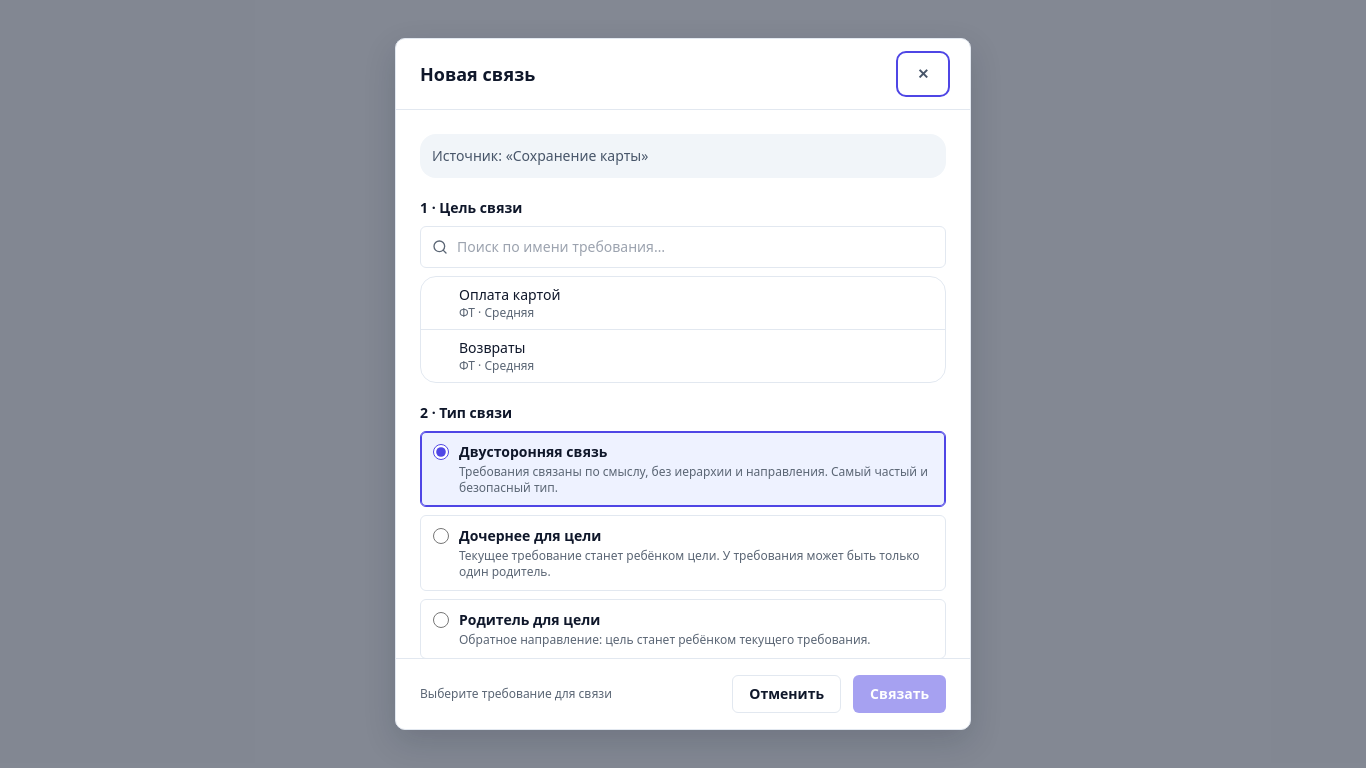
Test: LinkModal (T-606, FR-8) › shows the readable relationship sentence with highlighted names after picking a target
Type "Оплата" into the search field with test id "link-search". click: (683, 247)
box: 420,226 -> 946,268
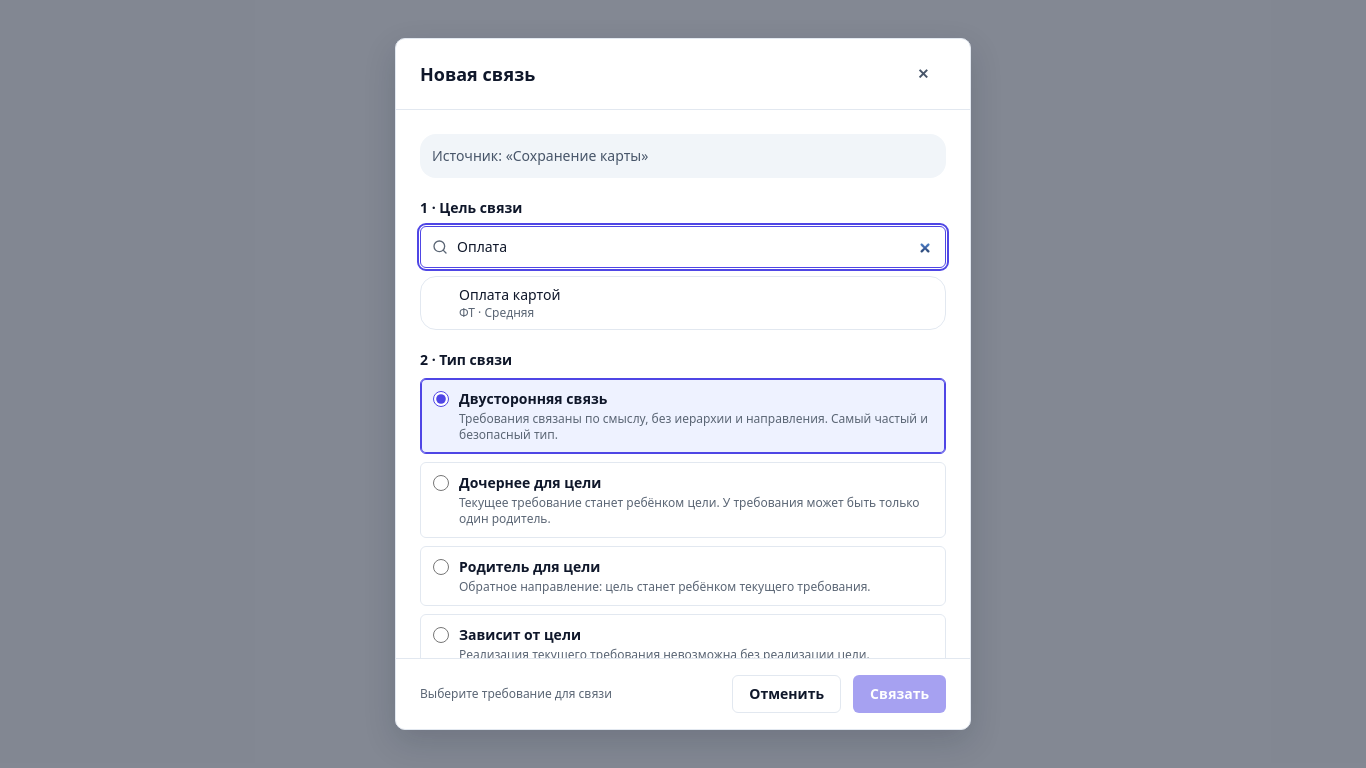
Click the option with test id "link-result-a1". click: (510, 295)
box: 421,277 -> 945,329
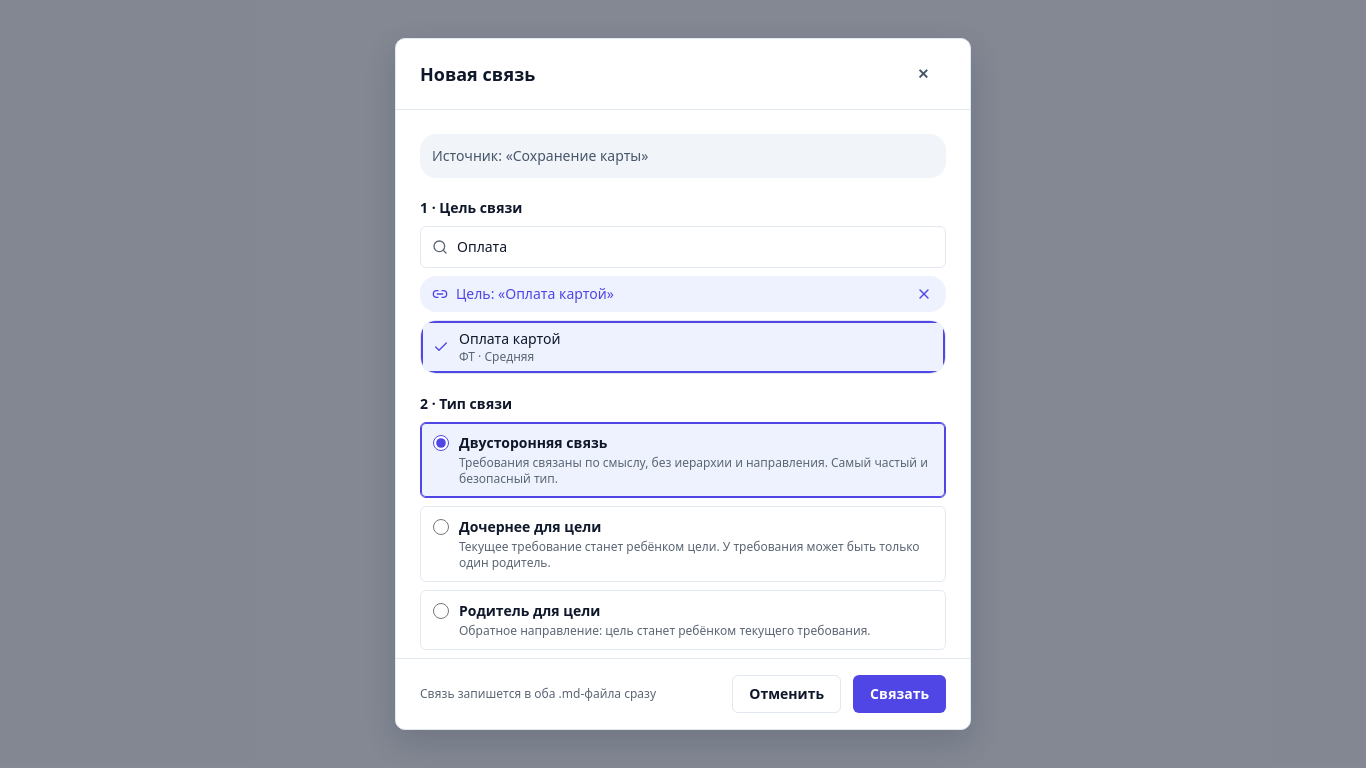
Click the radio button with test id "link-type-CHILD_OF". click: (441, 527)
box: 433,519 -> 449,535
(page scrolled)
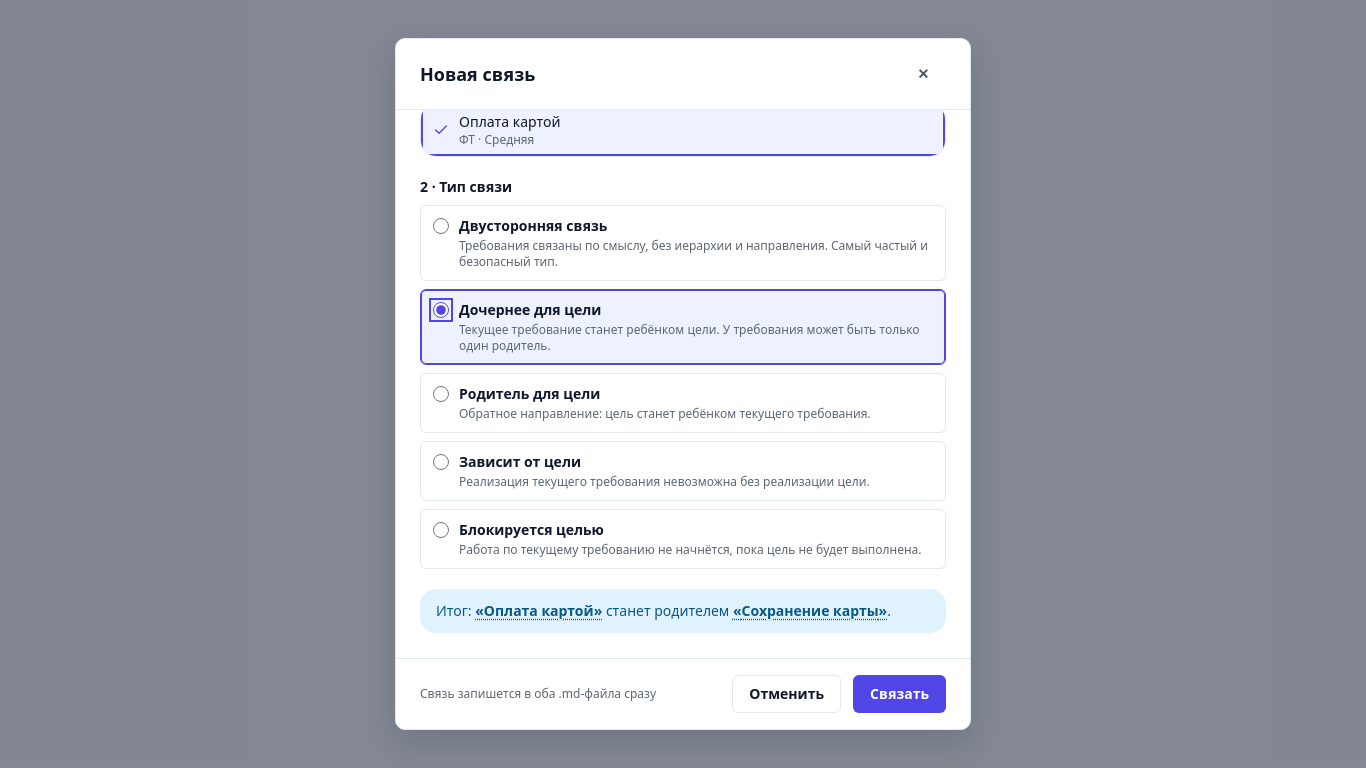
Now the message with test id "link-sentence" shows "«Оплата картой» станет родителем «Сохранение карты»", box 420,589 -> 946,633
